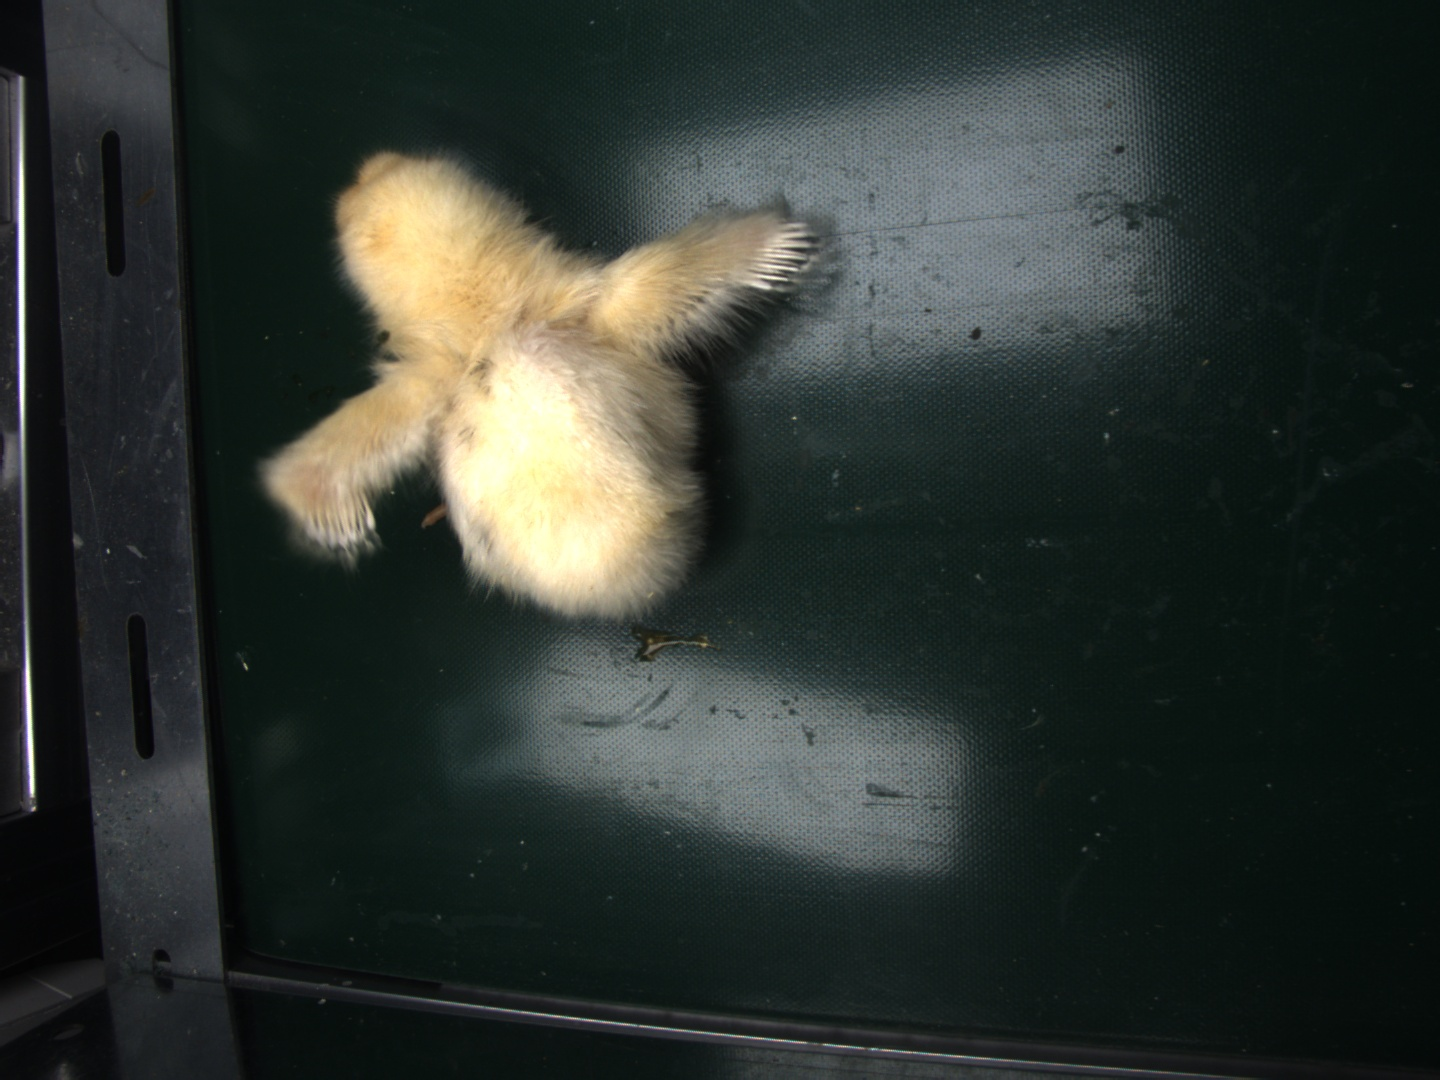male: (751, 218, 811, 295)
